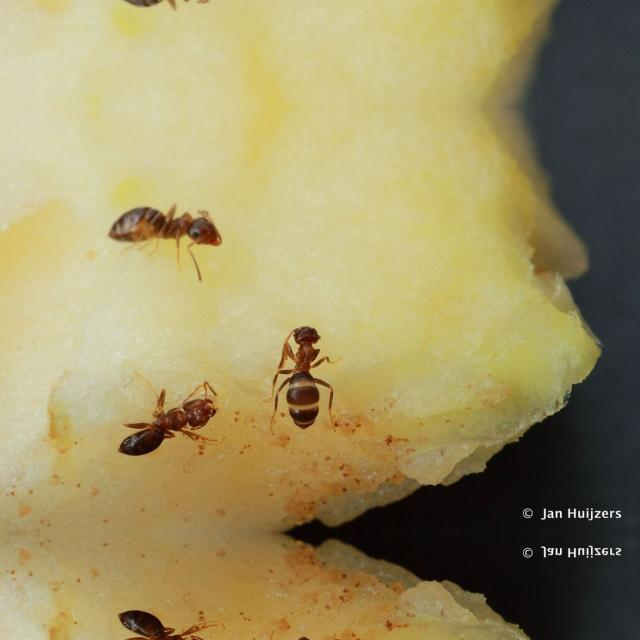Lasius: (253, 301, 345, 439), (100, 182, 240, 262), (115, 375, 232, 457), (100, 0, 238, 30), (114, 606, 230, 640)
